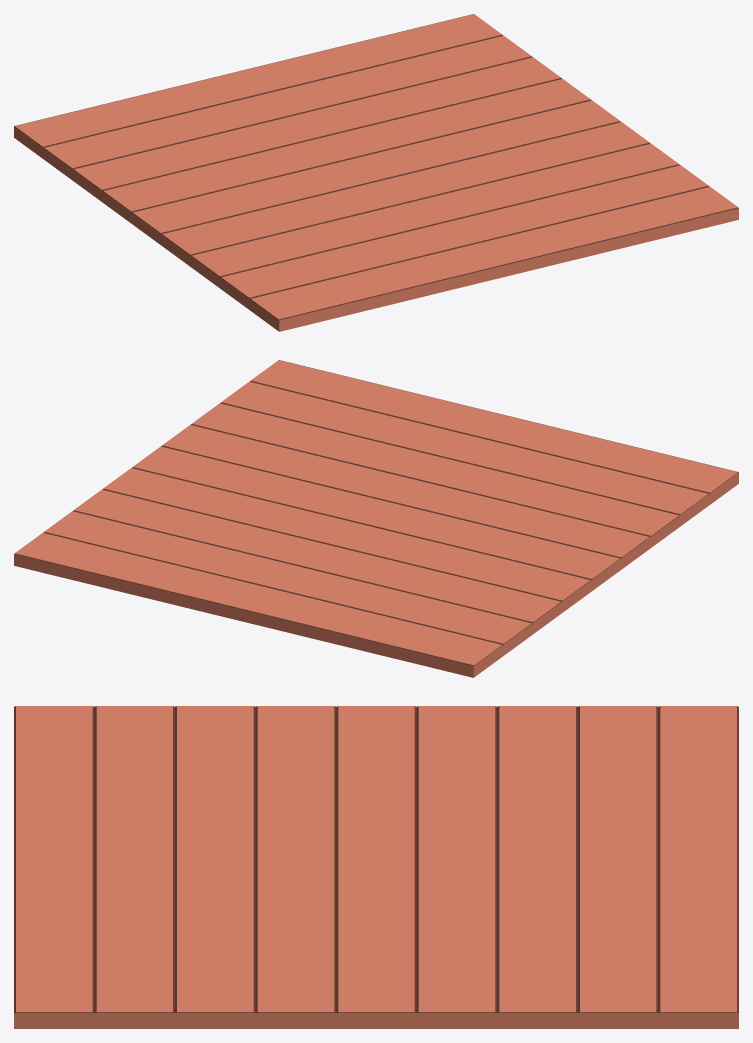
Rendered from Floor 1.fbx.
The picture shows the model from 3 angles, top to bottom: view 1: azimuth 30°, elevation 25°; view 2: azimuth 150°, elevation 25°; view 3: azimuth 270°, elevation 25°; orthographic projection. The views are drawn at different scales.
Parts seen in each view (by area): view 1: Floor 1; view 2: Floor 1; view 3: Floor 1.
Boxes of the visible parts, x1,y1,x2,y2 form: Floor 1: (14, 14, 738, 331); Floor 1: (14, 360, 738, 677); Floor 1: (14, 706, 738, 1028).
Bounding box in the file's own units: 2000 × 50 × 2000.
